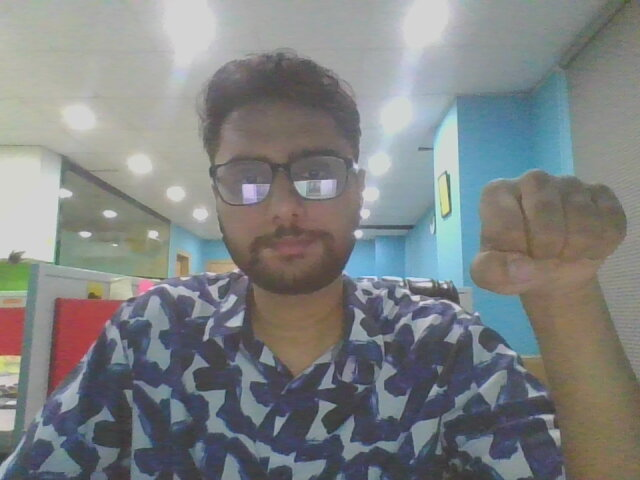yes: (457, 157, 640, 334)
